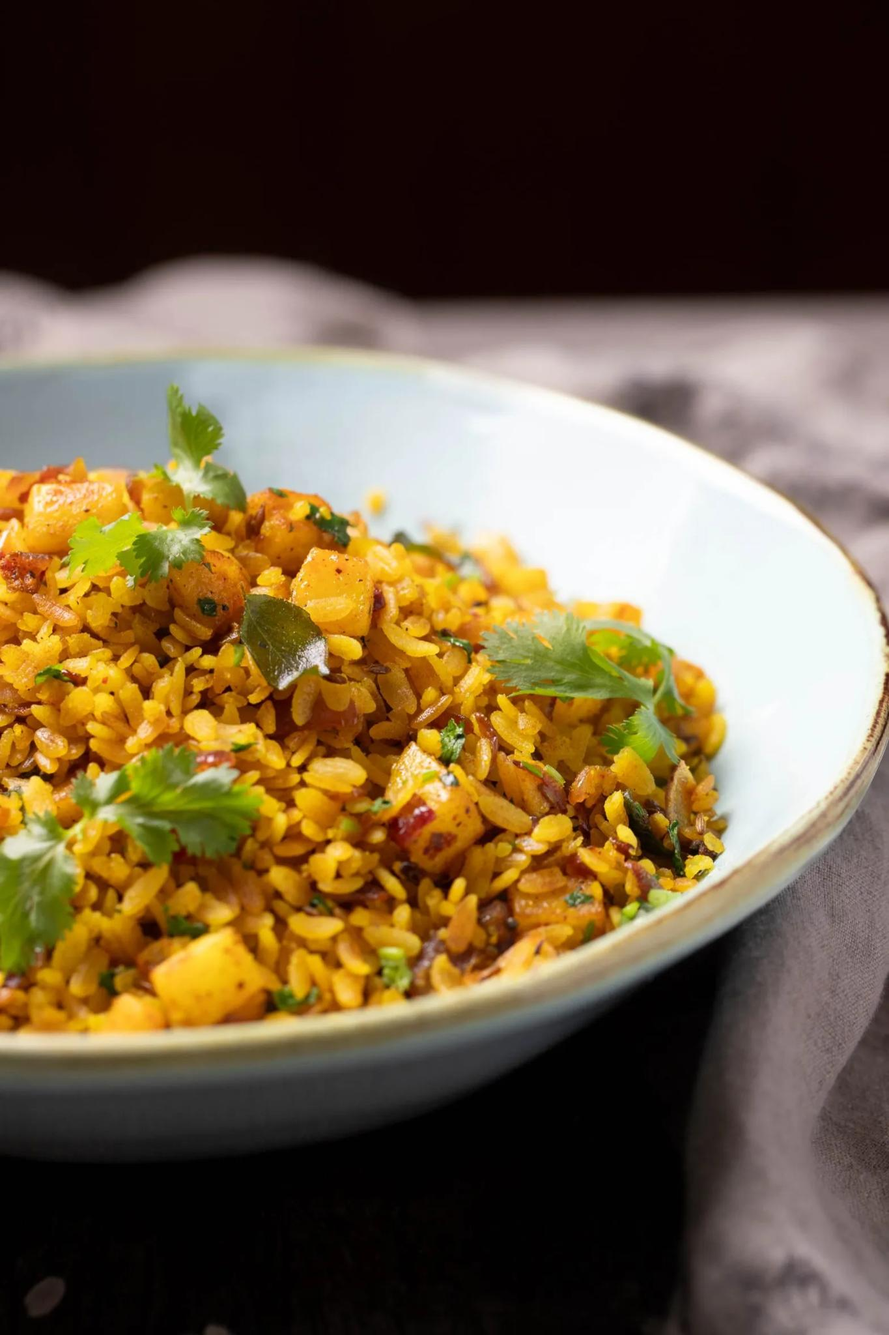poha: (0, 449, 721, 1076)
